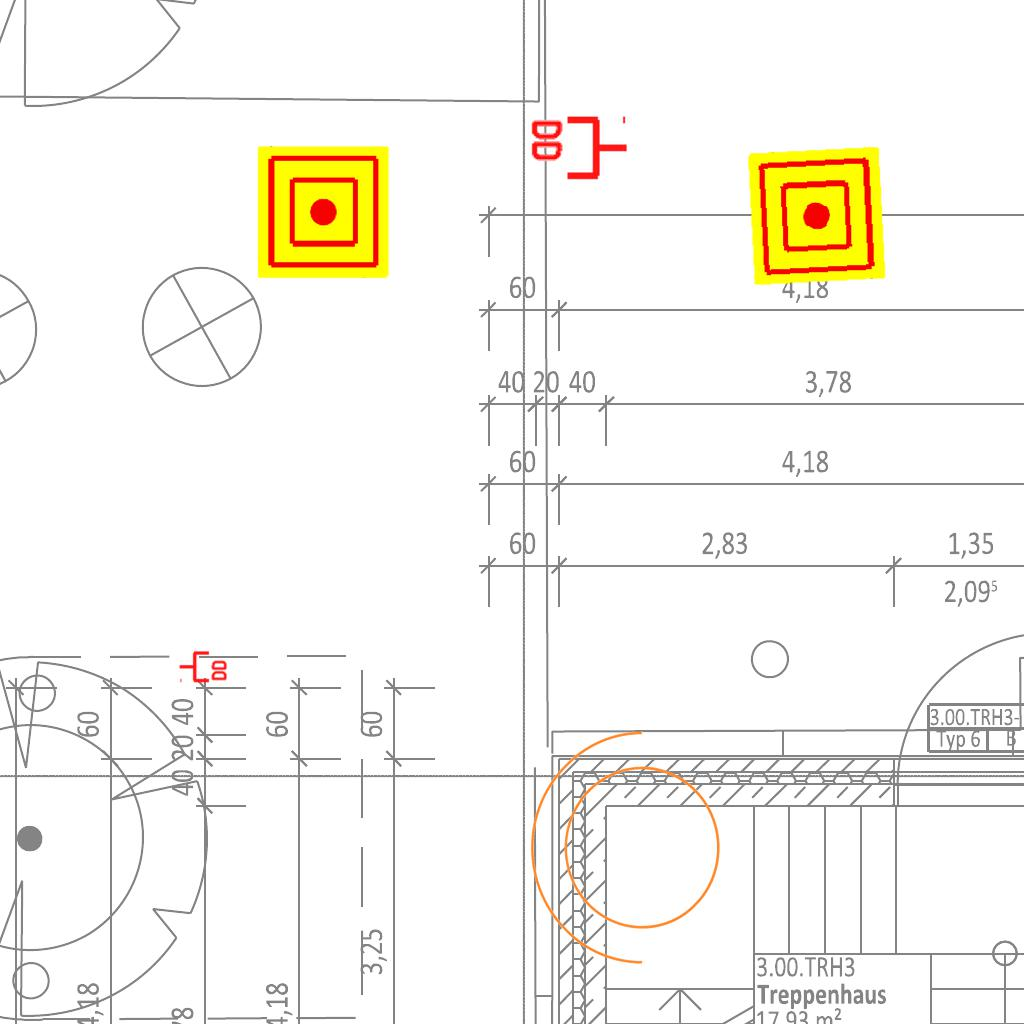Datenanschluss_zweifach: (527, 115, 630, 184), (178, 649, 229, 683)
NAM-Nichtautomatischer_Melder: (747, 146, 887, 286), (257, 146, 389, 278)
Scheinwerfer_fuer_Alarmbeleuchtung: (520, 722, 745, 986)
